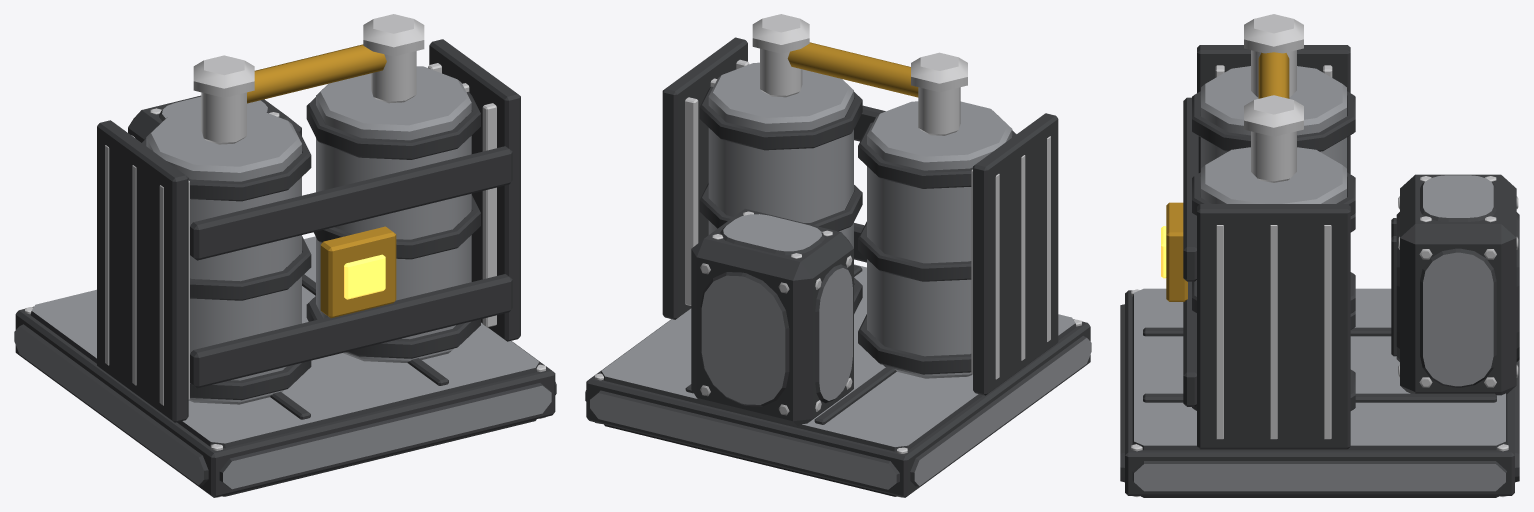
Rendered from R4X_Battery.fbx.
3 views of the same model, side by side, from view 1: azimuth 30°, elevation 25°; view 2: azimuth 150°, elevation 25°; view 3: azimuth 270°, elevation 25° (orthographic). The views are drawn at different scales.
Parts seen in each view (by area): view 1: R4X_Battery_Body; view 2: R4X_Battery_Body; view 3: R4X_Battery_Body.
Part boxes in pixels (x1,y1,x2,y2): R4X_Battery_Body: (14,14,556,497); R4X_Battery_Body: (585,14,1091,497); R4X_Battery_Body: (1120,14,1519,497).
Size of the model in its own units: 0.52 by 0.51 by 0.52.
